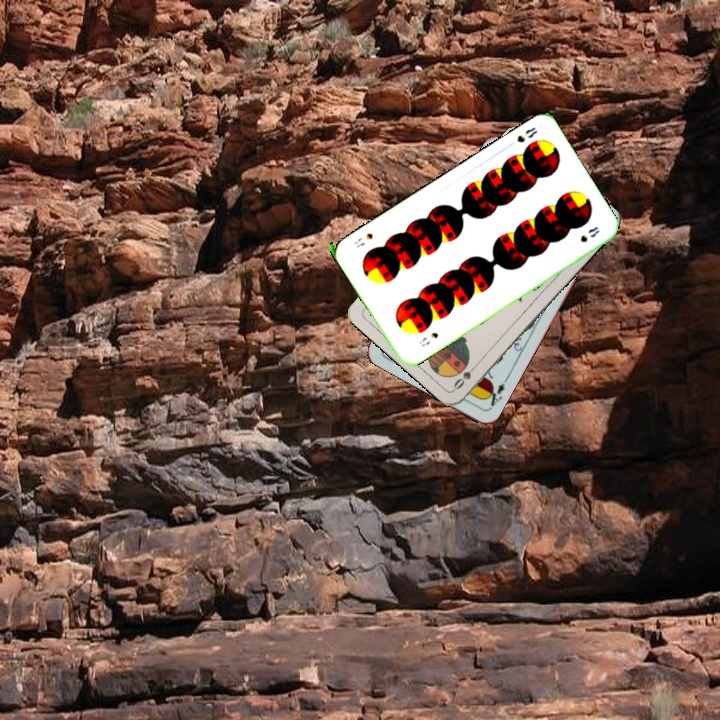EA: (481, 379, 507, 412)
S8: (513, 123, 540, 145), (415, 328, 441, 350)
SO: (449, 359, 481, 392)
